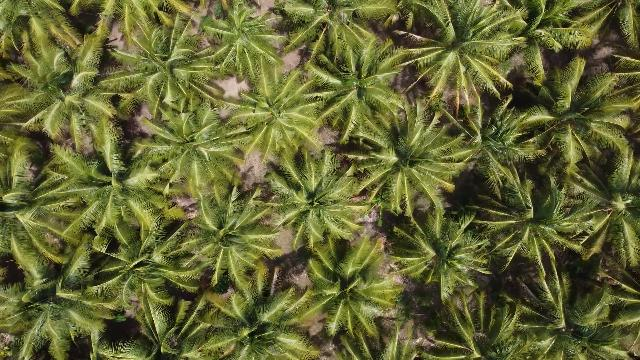trees: (21, 128, 185, 268), (6, 21, 132, 153), (353, 100, 474, 223), (305, 21, 419, 150), (510, 60, 638, 173), (395, 5, 527, 113), (467, 167, 600, 274), (504, 262, 637, 360), (111, 11, 221, 124), (133, 100, 248, 207), (301, 235, 405, 353), (180, 184, 284, 299), (180, 275, 320, 360), (551, 140, 640, 272), (388, 207, 501, 308), (5, 264, 125, 359), (224, 65, 332, 170), (263, 148, 367, 256), (507, 3, 618, 66), (199, 3, 287, 81), (286, 3, 402, 59), (8, 2, 88, 58), (107, 3, 198, 52), (439, 2, 516, 50), (98, 334, 158, 360), (617, 1, 640, 54)
